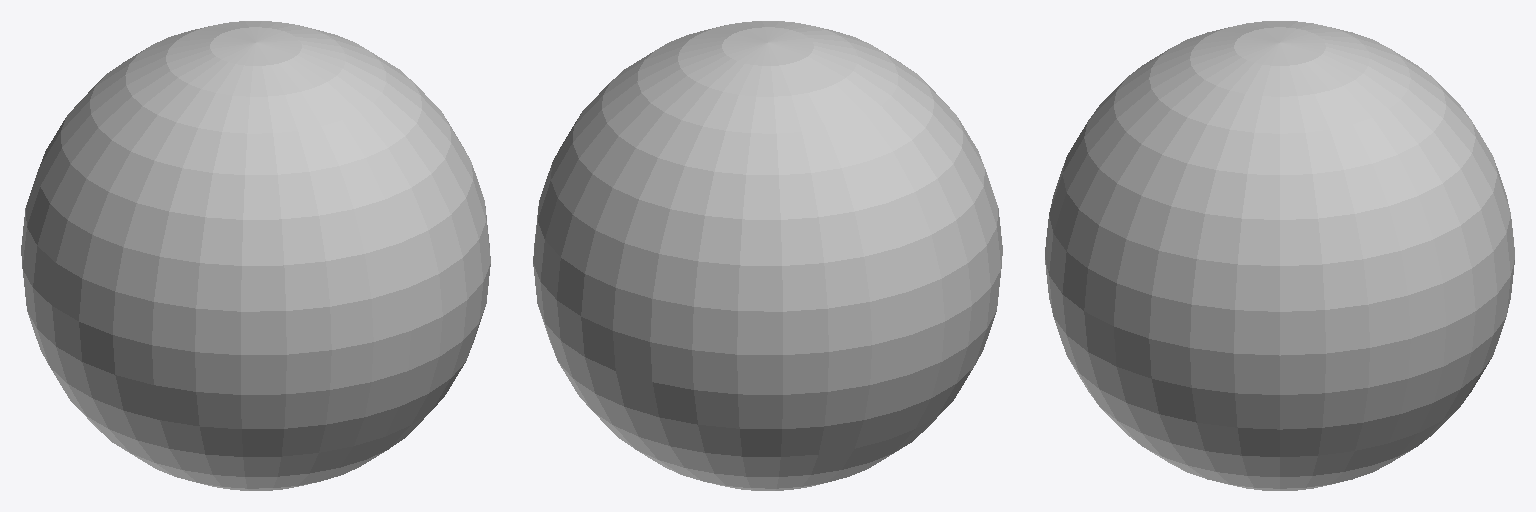
Rendered from right_ball.obj.
3 renders of one model, left to right at view 1: azimuth 30°, elevation 25°; view 2: azimuth 150°, elevation 25°; view 3: azimuth 270°, elevation 25°, orthographic.
Visible parts, largest first — view 1: Sphere.001_Sphere.003; view 2: Sphere.001_Sphere.003; view 3: Sphere.001_Sphere.003.
Boxes of the visible parts, box(x1,y1,x2,y2) form: Sphere.001_Sphere.003: box(21, 21, 490, 490); Sphere.001_Sphere.003: box(533, 21, 1002, 490); Sphere.001_Sphere.003: box(1045, 21, 1514, 490).
Size of the model in its own units: 2 by 2 by 2.